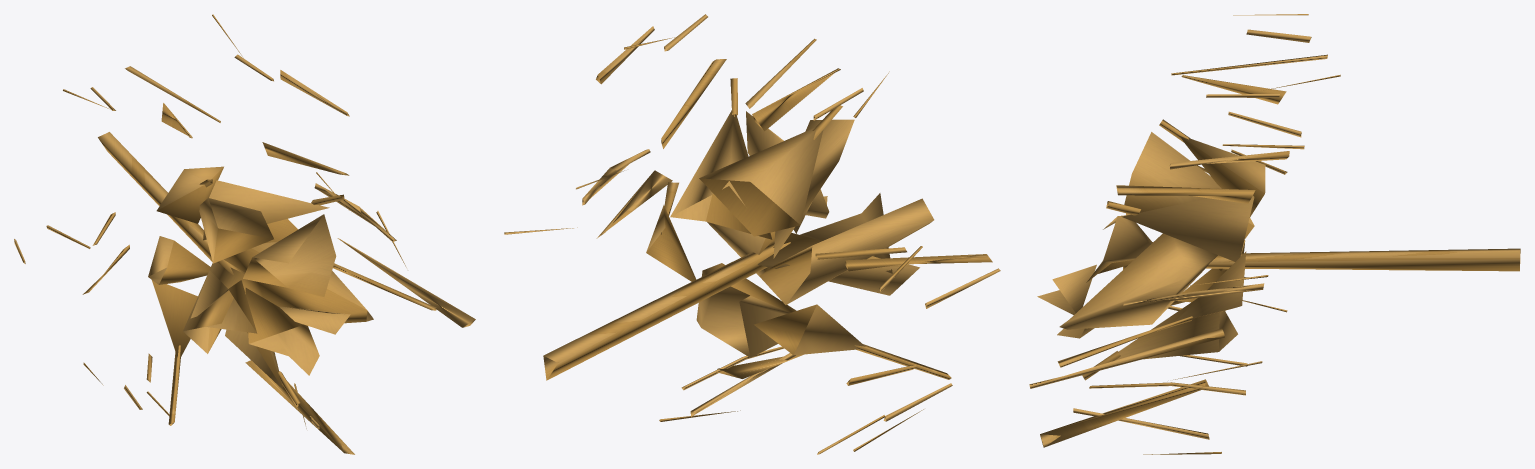
File: unti3tled.fbx
The picture shows the model from 3 angles, left to right: view 1: azimuth 30°, elevation 25°; view 2: azimuth 150°, elevation 25°; view 3: azimuth 270°, elevation 25°; orthographic projection. The views are drawn at different scales.
Parts seen in each view (by area): view 1: Oats_02 (2); view 2: Oats_02 (2); view 3: Oats_02 (2).
Boxes of the visible parts, x1,y1,x2,y2 form: Oats_02 (2): (14, 14, 475, 454); Oats_02 (2): (504, 14, 1000, 454); Oats_02 (2): (1029, 14, 1520, 454).
Bounding box in the file's own units: 48.22 × 43.63 × 51.18.
